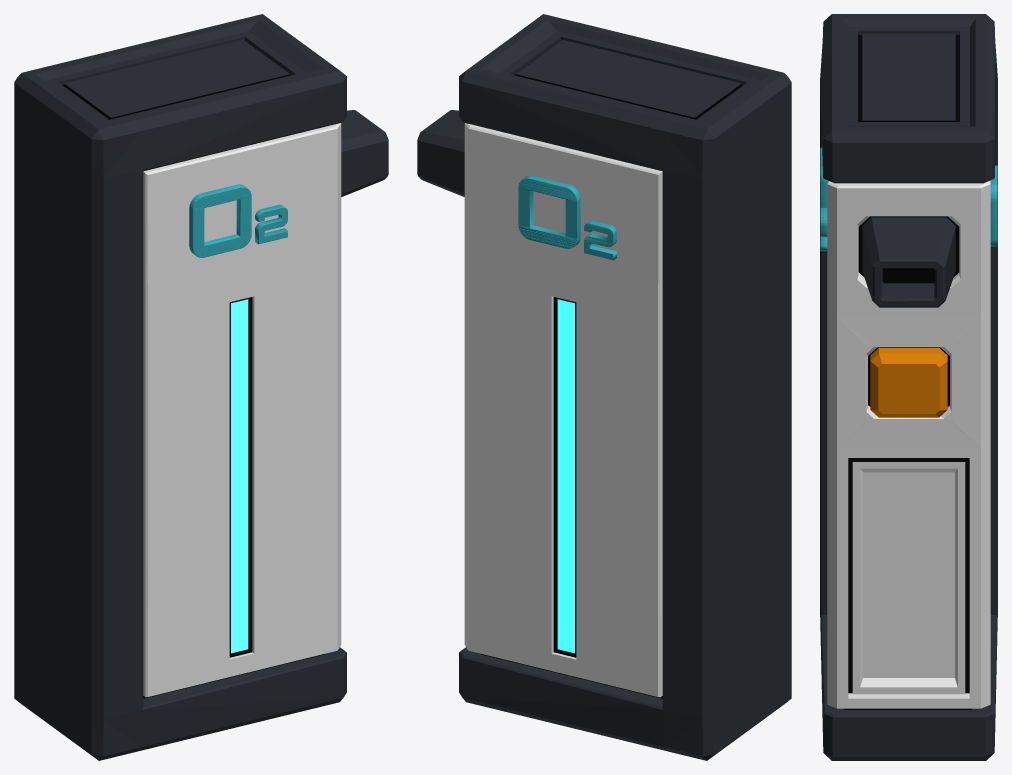
File: SM_Oxygen_Booster_Unit.fbx
The picture shows the model from 3 angles, left to right: view 1: azimuth 30°, elevation 25°; view 2: azimuth 150°, elevation 25°; view 3: azimuth 270°, elevation 25°; orthographic projection.
Parts seen in each view (by area): view 1: SM_Oxygen_Booster_Unit; view 2: SM_Oxygen_Booster_Unit; view 3: SM_Oxygen_Booster_Unit.
Boxes of the visible parts, left/top/right/bottom form: SM_Oxygen_Booster_Unit: left=14, top=14, right=388, bottom=760; SM_Oxygen_Booster_Unit: left=417, top=14, right=791, bottom=760; SM_Oxygen_Booster_Unit: left=820, top=14, right=997, bottom=760.
Size of the model in its own units: 6.41 by 12.13 by 3.1.
